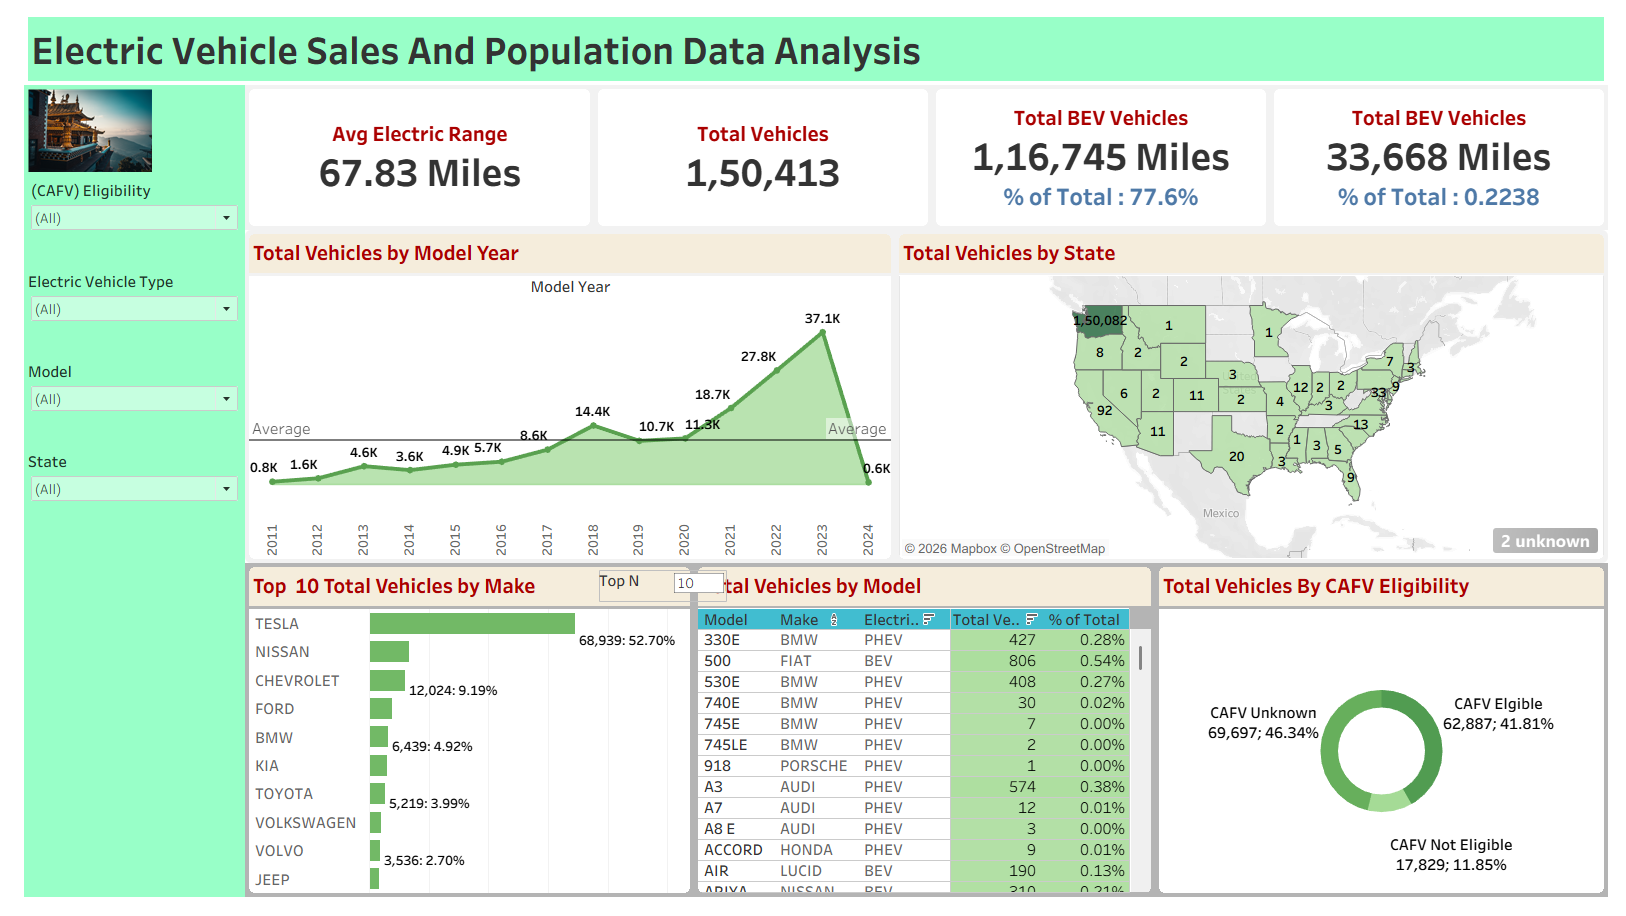

What the dashboard file says about the page in this screenshot:
{"tool":"tableau","page":{"name":"Dashboard 1","canvas":[1600,900],"ordinal":0},"visuals":[{"type":"title","box":[8,8,1584,72]},{"type":"image","param":"C:/Users/bilad/Documents/raimond-klavins-JqT2Wp5S0Dk-unsplash.jpg","box":[8,80,221,91]},{"type":"worksheet","title":"Avg Electric Range","mark":"Automatic","box":[229,80,348.5,145]},{"type":"worksheet","title":"Total Vehicles","mark":"Automatic","box":[578,80,338,145]},{"type":"worksheet","title":"Total BEV Vehicles","mark":"Automatic","box":[916,80,338,145]},{"type":"worksheet","title":"Total PHEV Vehicles","mark":"Automatic","box":[1254,80,338,145]},{"type":"filter","title":"Total Vehicles by Model Year","param":"[federated.0gzhbwo1dqrgak1a78qfu1kidv5n].[none:Clean Alternative Fuel Vehicle (C","box":[8,171,221,91]},{"type":"worksheet","title":"Total Vehicles by Model Year","mark":"Area","rows":["Calculation_1174341318475776","Calculation_1174341318475776"],"cols":["Model Year"],"box":[229,225,650,333.5]},{"type":"worksheet","title":"Total Vehicles by State","mark":"Multipolygon","box":[879,225,713,333.5]},{"type":"filter","title":"Total Vehicles by Model Year","param":"[federated.0gzhbwo1dqrgak1a78qfu1kidv5n].[none:Electric Vehicle Type:nk]","box":[8,262,221,90]},{"type":"filter","title":"Total Vehicles by Model Year","param":"[federated.0gzhbwo1dqrgak1a78qfu1kidv5n].[none:Model:nk]","box":[8,352,221,90]},{"type":"filter","title":"Total Vehicles by Model Year","param":"[federated.0gzhbwo1dqrgak1a78qfu1kidv5n].[none:State:nk]","box":[8,442,221,90]},{"type":"blank","box":[8,532,221,90]},{"type":"worksheet","title":"Top 10 Vehicles by Make","mark":"Automatic","rows":["Make"],"cols":["Calculation_1174341318475776"],"box":[229,558.5,449,333.5]},{"type":"worksheet","title":"Total Vehicles by Model","mark":"Square","rows":["Model","Make","Electric Vehicle Type"],"box":[678,558.5,461,333.5]},{"type":"worksheet","title":"Total Vehicles By CAFV Eligibility","mark":"Pie","rows":["Calculation_0381320110866433","Calculation_0381320110866433"],"box":[1139,558.5,453,333.5]},{"type":"parameter","param":"[Parameters].[Parameter 1]","box":[583,565,128,32]},{"type":"blank","box":[8,622,221,90]},{"type":"blank","box":[8,712,221,90]},{"type":"blank","box":[8,802,221,90]}]}

Visuals, with their boxes in screenshot pixels (x1, y1, x2, y2), scaled from the page's 1600x900 canvas onto the 1626x916 screenshot:
title: 8/8/1618/81
image: 8/81/233/174
"Avg Electric Range" worksheet: 233/81/587/229
"Total Vehicles" worksheet: 587/81/931/229
"Total BEV Vehicles" worksheet: 931/81/1274/229
"Total PHEV Vehicles" worksheet: 1274/81/1618/229
"Total Vehicles by Model Year" filter: 8/174/233/267
"Total Vehicles by Model Year" worksheet (Area marks): 233/229/893/568
"Total Vehicles by State" worksheet (Multipolygon marks): 893/229/1618/568
"Total Vehicles by Model Year" filter: 8/267/233/358
"Total Vehicles by Model Year" filter: 8/358/233/450
"Total Vehicles by Model Year" filter: 8/450/233/541
blank: 8/541/233/633
"Top 10 Vehicles by Make" worksheet: 233/568/689/908
"Total Vehicles by Model" worksheet (Square marks): 689/568/1158/908
"Total Vehicles By CAFV Eligibility" worksheet (Pie marks): 1158/568/1618/908
parameter: 592/575/723/608
blank: 8/633/233/725
blank: 8/725/233/816
blank: 8/816/233/908
